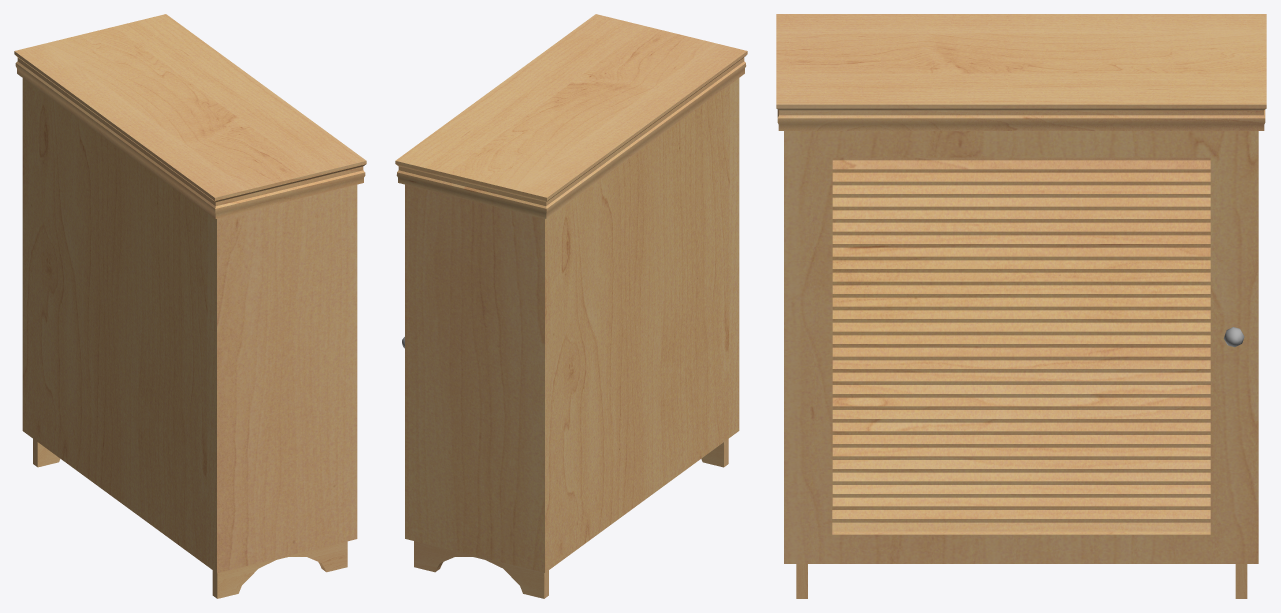
Rendered from yigui.fbx.
3 views of the same model, side by side, from view 1: azimuth 30°, elevation 25°; view 2: azimuth 150°, elevation 25°; view 3: azimuth 270°, elevation 25° (orthographic). The views are drawn at different scales.
Visible parts, largest first — view 1: yigui; view 2: yigui; view 3: yigui.
Part boxes in pixels (x1=…): yigui: x1=14, y1=14, x2=366, y2=598; yigui: x1=395, y1=14, x2=747, y2=598; yigui: x1=776, y1=14, x2=1266, y2=598.
Size of the model in its own units: 40.9 by 101 by 89.89.
